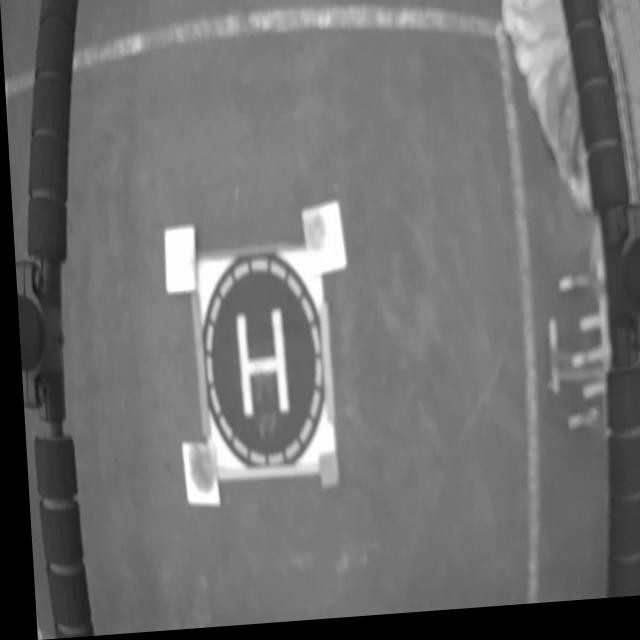Helipad: (231, 312, 286, 421)
